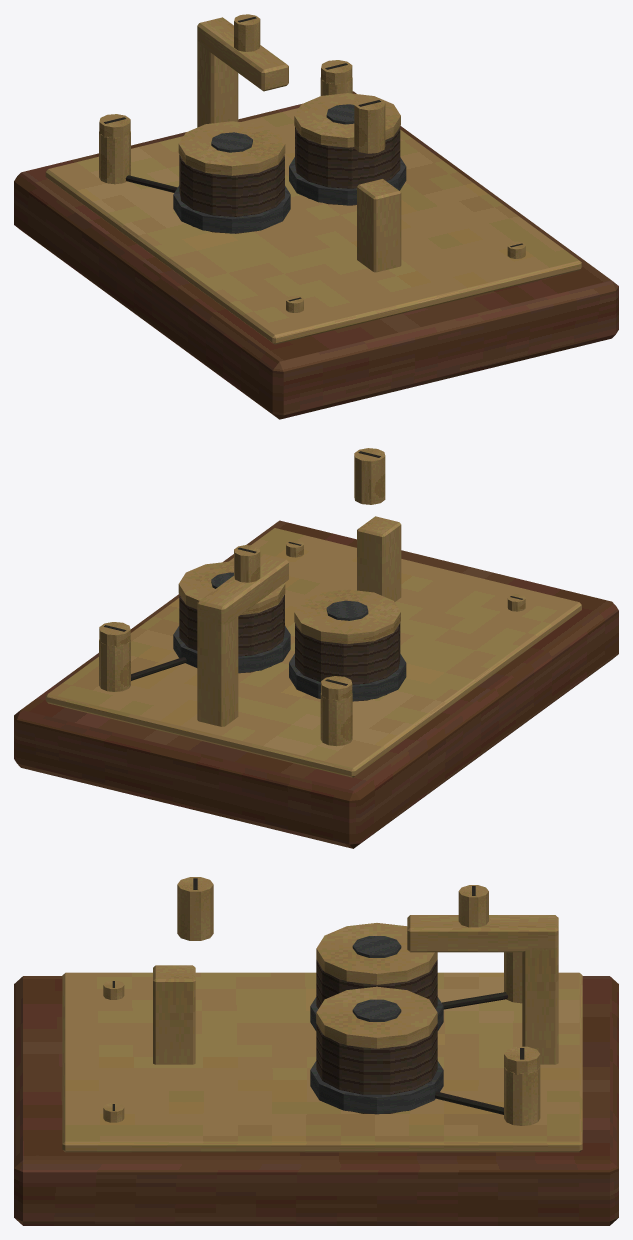
File: sounder_static.glb
3 views of the same model, one above another, from view 1: azimuth 30°, elevation 25°; view 2: azimuth 150°, elevation 25°; view 3: azimuth 270°, elevation 25° (orthographic). The views are drawn at different scales.
Visible parts, largest first — view 1: sounder_static; view 2: sounder_static; view 3: sounder_static.
Boxes of the visible parts, box(x1,y1,x2,y2) form: sounder_static: box(14, 14, 618, 419); sounder_static: box(14, 448, 618, 848); sounder_static: box(14, 877, 618, 1225).
Bounding box in the file's own units: 0.15 × 0.0912 × 0.2.
Materials: 5 (5 with a texture image).
